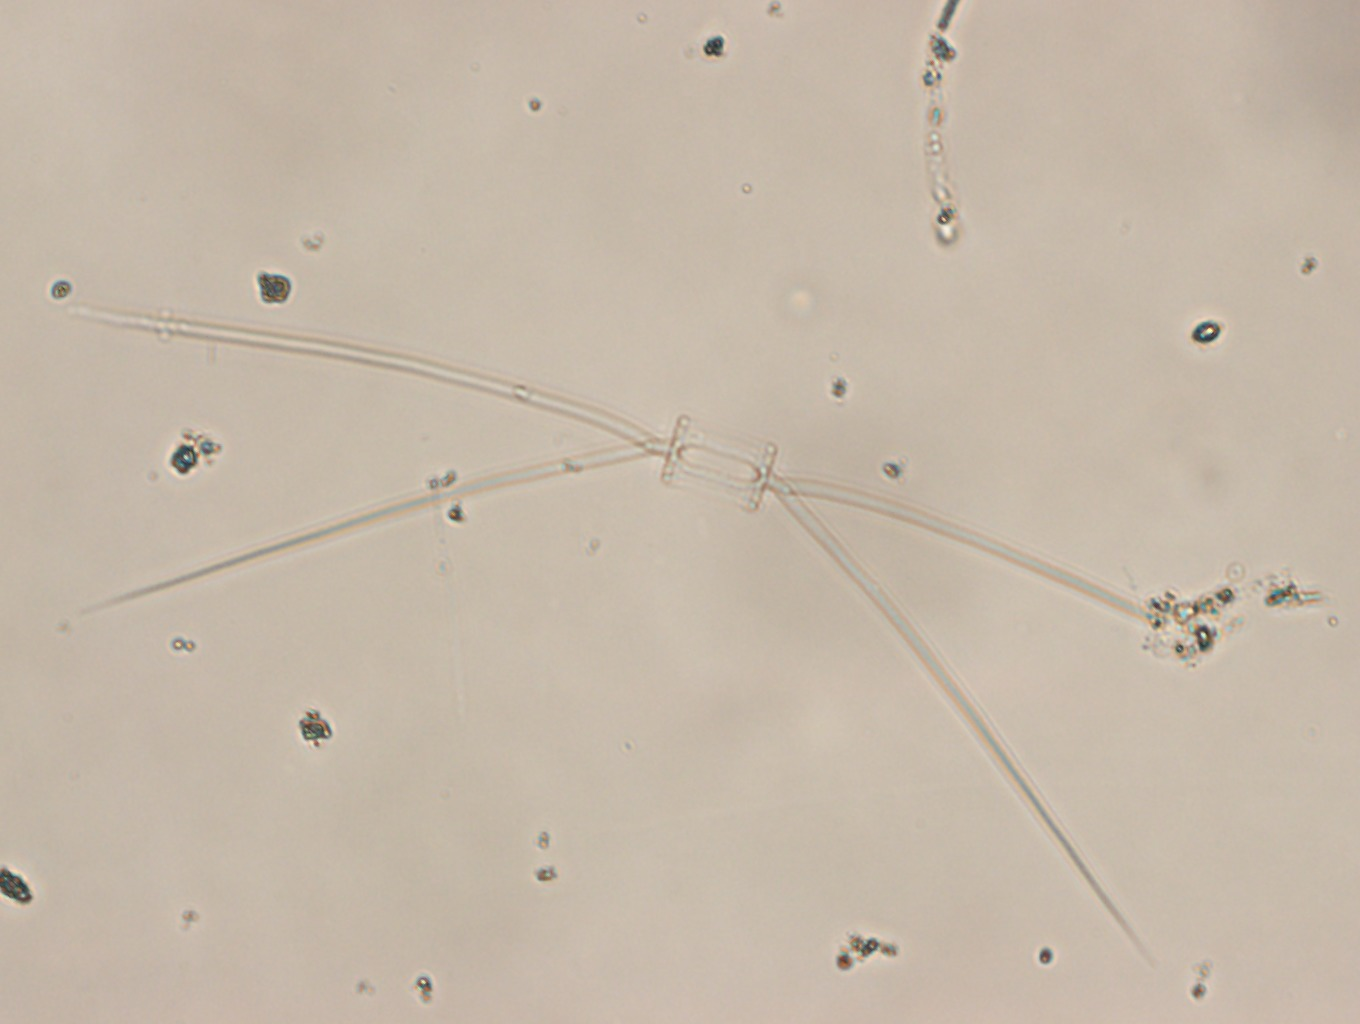chaetoceros: (63, 302, 1157, 969)
